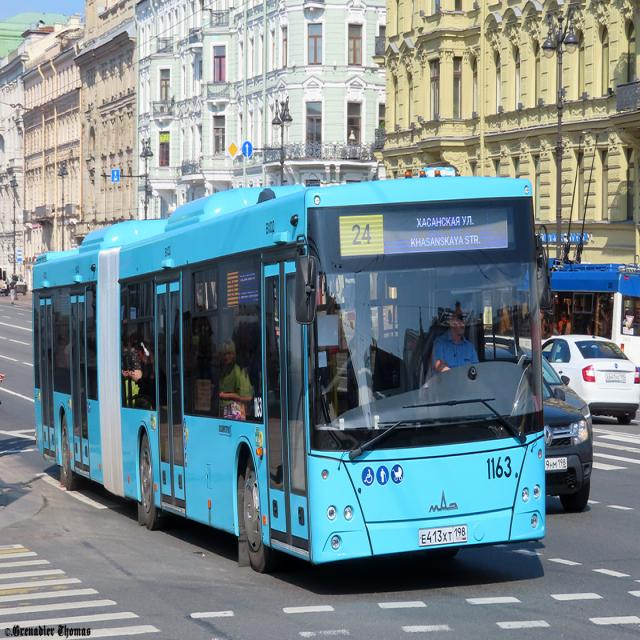number-of-bus: (348, 217, 380, 251)
